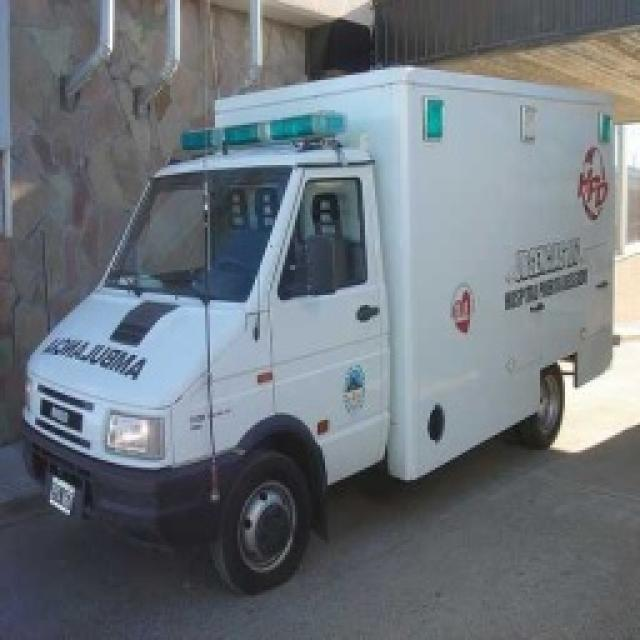emergency-vehicle: (28, 62, 616, 581)
